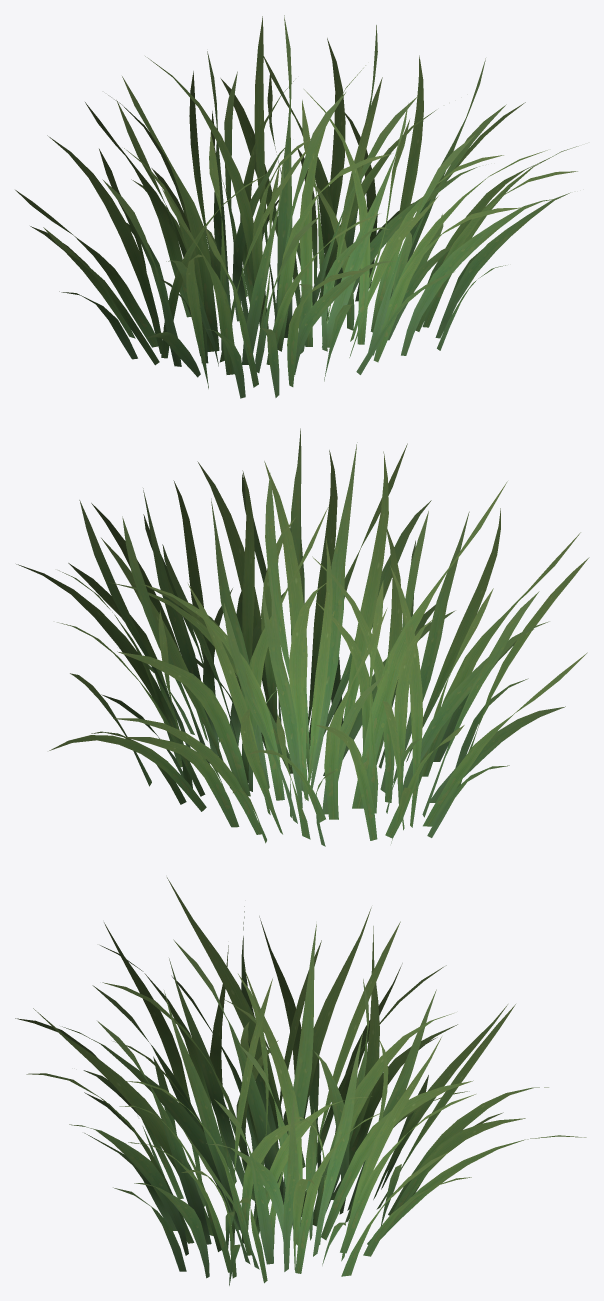
The model's file is Stages_MdLGrass01.fbx.
3 renders of one model, top to bottom at view 1: azimuth 30°, elevation 25°; view 2: azimuth 150°, elevation 25°; view 3: azimuth 270°, elevation 25°, orthographic. The views are drawn at different scales.
Visible parts, largest first — view 1: Stages_MdLGrass01_03_Lod0; view 2: Stages_MdLGrass01_03_Lod0; view 3: Stages_MdLGrass01_03_Lod0.
Boxes of the visible parts, x1,y1,x2,y2 form: Stages_MdLGrass01_03_Lod0: [15, 15, 578, 398]; Stages_MdLGrass01_03_Lod0: [16, 428, 589, 846]; Stages_MdLGrass01_03_Lod0: [15, 877, 586, 1285].
Bounding box in the file's own units: 2.95 × 1.7 × 2.87.
1 material, 1 textured.
